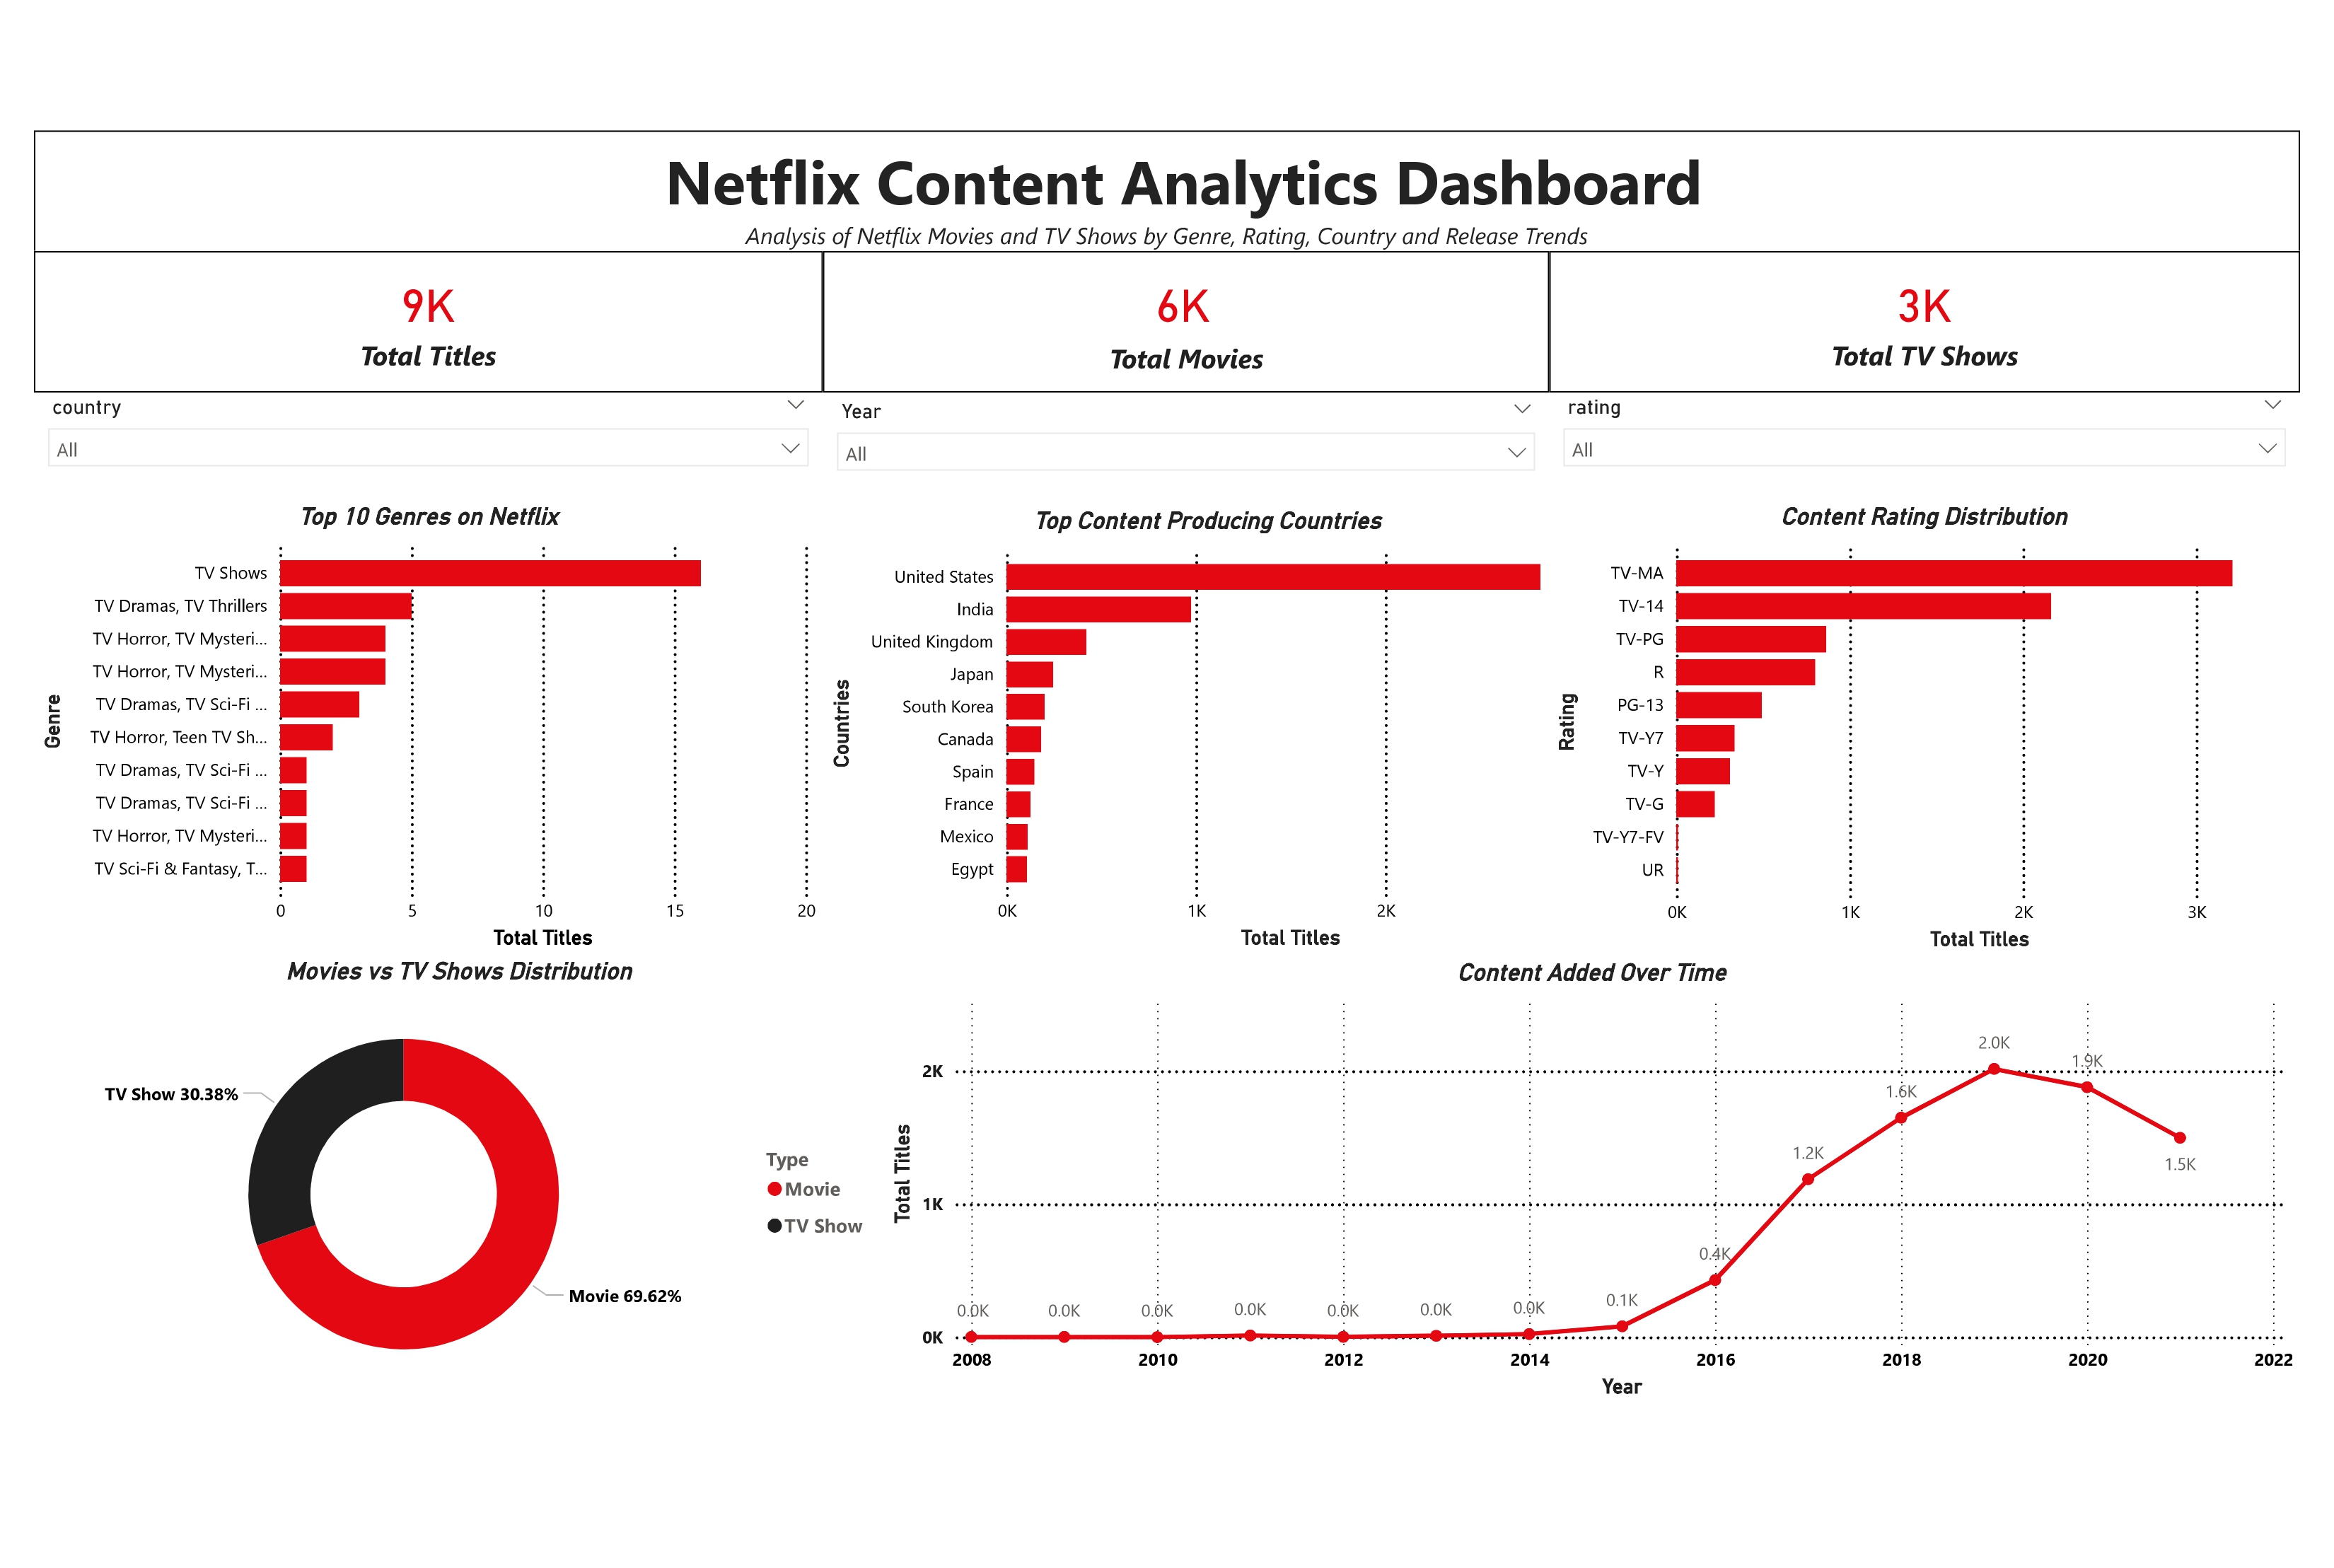

What the dashboard file says about the page in this screenshot:
{"tool":"powerbi","page":{"name":"Page 1","canvas":[1600,900],"ordinal":0},"visuals":[{"type":"donutChart","title":"Movies vs TV Shows Distribution","fields":{"Category":["netflix_titles.type"],"Y":["CountNonNull(netflix_titles.show_id)"]},"box":[0,583.3,600,316.7],"z":0},{"type":"lineChart","title":"Content Added Over Time","fields":{"Y":["CountNonNull(netflix_titles.show_id)"],"Category":["netflix_titles.Year"]},"box":[600.2,583.6,999.8,316.7],"z":1000},{"type":"barChart","title":"Top 10 Genres on Netflix","fields":{"Y":["CountNonNull(netflix_titles.show_id)"],"Category":["netflix_titles.listed_in"]},"box":[0,261.7,556.7,321.7],"z":2000},{"type":"barChart","title":"Top Content Producing Countries","fields":{"Y":["CountNonNull(netflix_titles.show_id)"],"Category":["netflix_titles.country"]},"box":[556.7,265,543.3,318.3],"z":3000},{"type":"barChart","title":"Content Rating Distribution","fields":{"Category":["netflix_titles.rating"],"Y":["CountNonNull(netflix_titles.show_id)"]},"box":[1069.2,262.4,530.8,321.2],"z":4000},{"type":"slicer","fields":{"Values":["netflix_titles.rating"]},"box":[1070,181.7,530,80],"z":5000},{"type":"slicer","fields":{"Values":["netflix_titles.country"]},"box":[0,181.7,556.7,80],"z":6000},{"type":"slicer","fields":{"Values":["netflix_titles.Year"]},"box":[556.7,185,513.3,76.7],"z":7000},{"type":"textbox","box":[0,0,1600,102.5],"z":8000},{"type":"advanceCardE03760C5AB684758B56AA29F9E6C257B","title":"Total Titles","fields":{"mainMeasure":["Count(netflix_titles.show_id)"]},"box":[0,85,556.7,100],"z":9000},{"type":"advanceCardE03760C5AB684758B56AA29F9E6C257B","fields":{"mainMeasure":["Count(netflix_titles.show_id)"]},"box":[556.7,85,513.3,100],"z":10000},{"type":"advanceCardE03760C5AB684758B56AA29F9E6C257B","fields":{"mainMeasure":["Count(netflix_titles.show_id)"]},"box":[1070,85,530,100],"z":11000}]}

Visuals, with their boxes on the page's 1600x900 design canvas (x1, y1, x2, y2). These are canvas units, not pixel positions in the 2334x1568 screenshot, which may show the page scaled, cropped or inside an application window:
"Movies vs TV Shows Distribution" donutChart: detection(0, 583, 600, 900)
"Content Added Over Time" lineChart: detection(600, 584, 1600, 900)
"Top 10 Genres on Netflix" barChart: detection(0, 262, 557, 583)
"Top Content Producing Countries" barChart: detection(557, 265, 1100, 583)
"Content Rating Distribution" barChart: detection(1069, 262, 1600, 584)
slicer - netflix_titles.rating: detection(1070, 182, 1600, 262)
slicer - netflix_titles.country: detection(0, 182, 557, 262)
slicer - netflix_titles.Year: detection(557, 185, 1070, 262)
textbox: detection(0, 0, 1600, 102)
"Total Titles" advanceCardE03760C5AB684758B56AA29F9E6C257B: detection(0, 85, 557, 185)
advanceCardE03760C5AB684758B56AA29F9E6C257B - Count(netflix_titles.show_id): detection(557, 85, 1070, 185)
advanceCardE03760C5AB684758B56AA29F9E6C257B - Count(netflix_titles.show_id): detection(1070, 85, 1600, 185)
